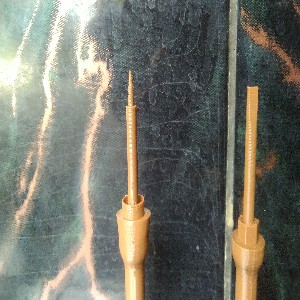obeng: (231, 85, 266, 300)
solder: (115, 70, 152, 300)
